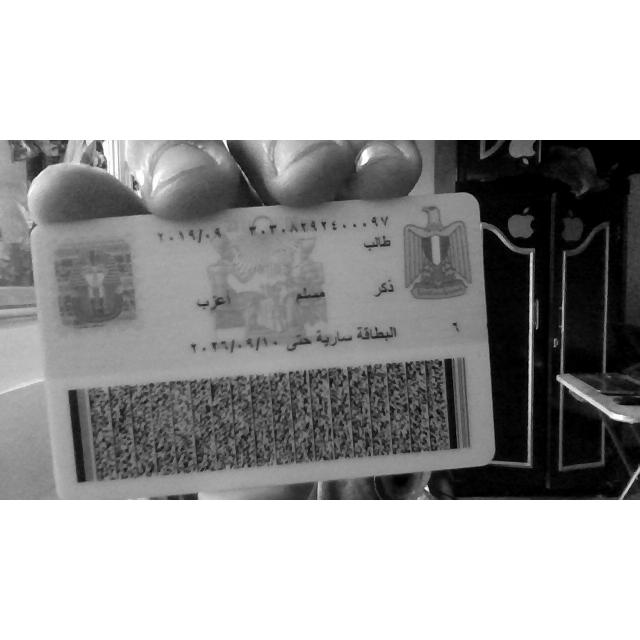id_card: (32, 193, 494, 500)
